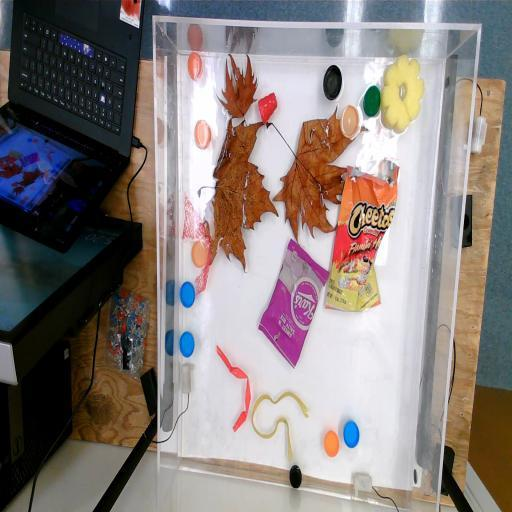Bottle Cap: (322, 64, 343, 101), (340, 104, 360, 138), (363, 85, 381, 118), (194, 119, 212, 149), (342, 420, 360, 449), (178, 330, 196, 359), (188, 52, 204, 82), (180, 280, 196, 309), (191, 239, 207, 268), (324, 430, 340, 458), (290, 464, 302, 489)
Cone Cap: (258, 91, 278, 126)
Leaf: (266, 105, 370, 249), (196, 116, 280, 274), (216, 53, 259, 127)
Netting: (182, 190, 211, 296)
Plastic Bag: (324, 158, 400, 314), (258, 238, 330, 370)
Plastic Strand: (251, 390, 309, 461), (216, 344, 252, 432)
Sponge: (380, 54, 425, 136)
